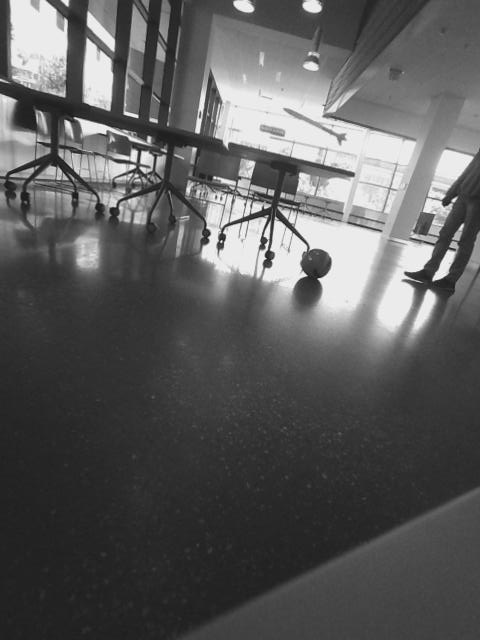ball: (1, 224, 33, 289)
